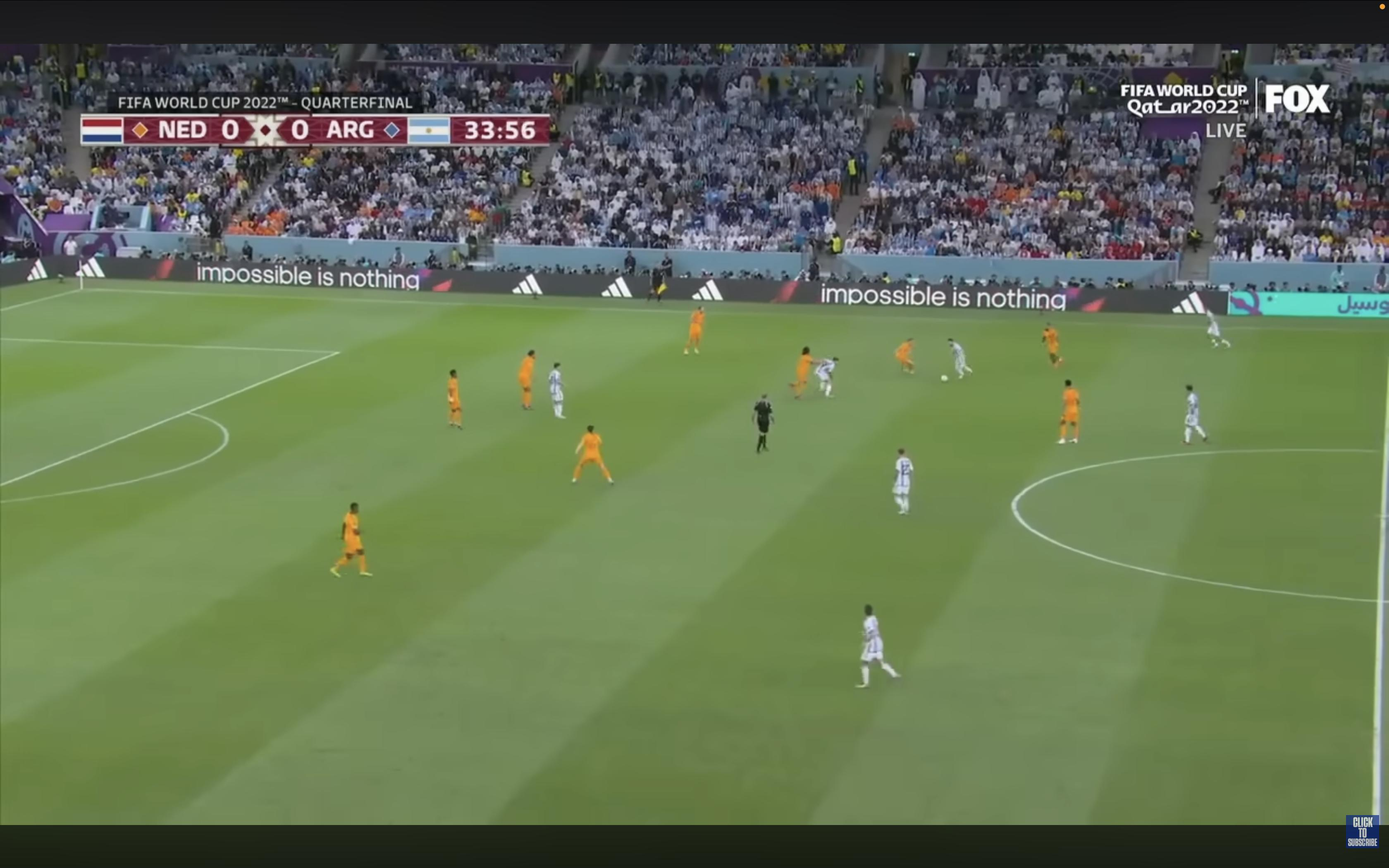ball: (942, 375, 949, 382)
player: (857, 605, 899, 688), (330, 502, 371, 577), (572, 425, 613, 484), (1183, 385, 1208, 445), (1058, 380, 1080, 444), (893, 448, 914, 515), (790, 347, 814, 399), (947, 339, 973, 379), (684, 306, 705, 355), (518, 350, 535, 410), (815, 357, 839, 398), (548, 362, 564, 420), (1207, 310, 1231, 347), (448, 370, 463, 429), (1043, 323, 1063, 367), (895, 339, 914, 373)
referee: (753, 394, 774, 453), (647, 269, 667, 303)
